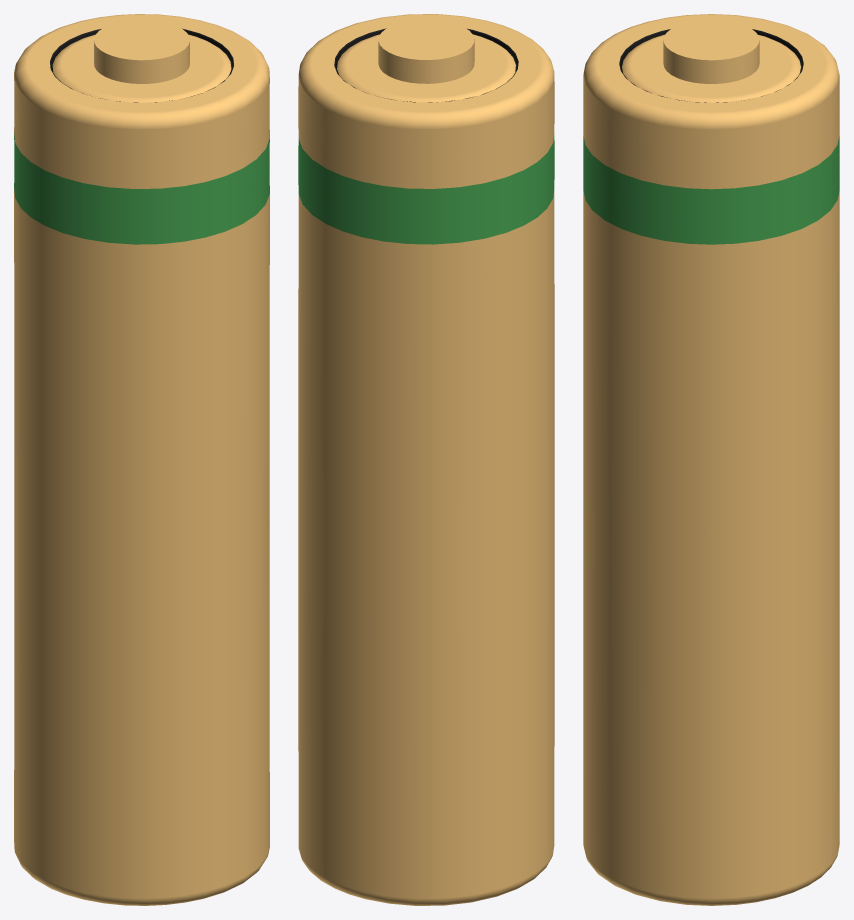
File: Saft LS 14500 AA Size Lithium Battery v2 v1.fbx
3 views of the same model, side by side, from view 1: azimuth 30°, elevation 25°; view 2: azimuth 150°, elevation 25°; view 3: azimuth 270°, elevation 25° (orthographic).
Parts seen in each view (by area): view 1: Body1; view 2: Body1; view 3: Body1.
Part boxes in pixels (left/top/right/bottom): Body1: left=14, top=14, right=269, bottom=905; Body1: left=298, top=14, right=554, bottom=905; Body1: left=583, top=14, right=839, bottom=905.
Bounding box in the file's own units: 14.65 × 51.5 × 14.65.
